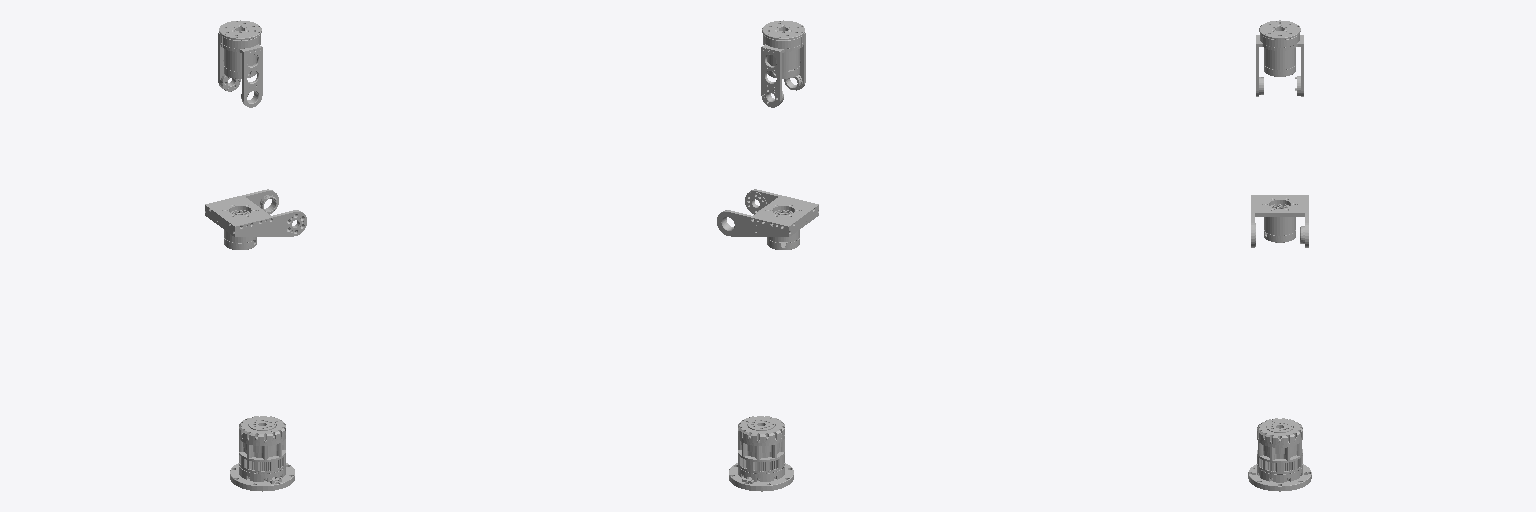
The robot description file, URDF, robot "tz_arm_V41-1335":
<?xml version="1.0" encoding="utf-8"?>
<robot name="tz_arm_V41-1335" path="/home/turingzero/vamp/depends/cricket/resources/tz4/tz_arm_V41-1335.urdf">
	<link name="base_link">
		<inertial>
			<origin xyz="2.99398138860439E-07 -3.82952103975888E-05 0.0507502318394864" rpy="0 0 0"></origin>
			<mass value="1.40205015450571"></mass>
			<inertia ixx="0.000788406537860612" ixy="-6.11950847235301E-10" ixz="3.92060292114215E-09" iyy="0.000789679952392793" iyz="-1.33449334947819E-06" izz="0.0011885193655481"></inertia>
		</inertial>
		<visual>
			<origin xyz="0 0 0" rpy="0 0 0"></origin>
			<geometry>
				<mesh filename="meshes/base_link.STL"></mesh>
			</geometry>
			<material name="">
				<color rgba="0.752941176470588 0.752941176470588 0.752941176470588 1"></color>
			</material>
		</visual>
		<collision>
			<geometry>
				<sphere radius="0.071214"></sphere>
			</geometry>
			<origin xyz="0.0001343362772682642 -0.0003413746512982846 0.038030326307778715" rpy="0 0 0"></origin>
		</collision>
		<collision>
			<geometry>
				<sphere radius="0.057428"></sphere>
			</geometry>
			<origin xyz="-0.0003276637227317358 6.862534870171544e-05 0.06080532630777871" rpy="0 0 0"></origin>
		</collision>
	</link>
	<link name="link_1">
		<inertial>
			<origin xyz="0.0306823927233202 -0.0063928559795804 0.040428098538066" rpy="0 0 0"></origin>
			<mass value="1.1270266760672"></mass>
			<inertia ixx="0.000631007772198894" ixy="-6.4009550144087E-07" ixz="-3.65451783193384E-05" iyy="0.000844227269112877" iyz="1.13338364399506E-06" izz="0.000654666345690303"></inertia>
		</inertial>
		<visual>
			<origin xyz="0 0 0" rpy="0 0 0"></origin>
			<geometry>
				<mesh filename="meshes/link_1.STL"></mesh>
			</geometry>
			<material name="">
				<color rgba="0.752941176470588 0.752941176470588 0.752941176470588 1"></color>
			</material>
		</visual>
		<collision>
			<geometry>
				<sphere radius="0.056729"></sphere>
			</geometry>
			<origin xyz="0.014247535344010555 0.010448569410885329 0.016331817878024804" rpy="0 0 0"></origin>
		</collision>
		<collision>
			<geometry>
				<sphere radius="0.065807"></sphere>
			</geometry>
			<origin xyz="0.03391553534401055 0.0009725694108853296 0.047977817878024805" rpy="0 0 0"></origin>
		</collision>
		<collision>
			<geometry>
				<sphere radius="0.055025"></sphere>
			</geometry>
			<origin xyz="0.017038535344010557 -0.015912430589114672 0.024795817878024803" rpy="0 0 0"></origin>
		</collision>
	</link>
	<link name="link_2">
		<inertial>
			<origin xyz="0.000149014115551779 0.0474685932588529 0.254649480511348" rpy="0 0 0"></origin>
			<mass value="1.4276525937128"></mass>
			<inertia ixx="0.00111522254991741" ixy="5.12194887643309E-07" ixz="2.45517975354855E-07" iyy="0.00125359398818602" iyz="-2.8919345256065E-06" izz="0.000758924202121227"></inertia>
		</inertial>
		<visual>
			<origin xyz="0 0 0" rpy="0 0 0"></origin>
			<geometry>
				<mesh filename="meshes/link_2.STL"></mesh>
			</geometry>
			<material name="">
				<color rgba="0.752941176470588 0.752941176470588 0.752941176470588 1"></color>
			</material>
		</visual>
		<collision>
			<geometry>
				<sphere radius="0.065249"></sphere>
			</geometry>
			<origin xyz="-0.0001624886144608847 0.052692105333109064 0.3273933273555716" rpy="0 0 0"></origin>
		</collision>
		<collision>
			<geometry>
				<sphere radius="0.047763"></sphere>
			</geometry>
			<origin xyz="0.0015815113855391152 0.05496710533310906 0.2521003273555716" rpy="0 0 0"></origin>
		</collision>
		<collision>
			<geometry>
				<sphere radius="0.041567"></sphere>
			</geometry>
			<origin xyz="-0.0009514886144608847 0.09612310533310907 0.011732327355571559" rpy="0 0 0"></origin>
		</collision>
		<collision>
			<geometry>
				<sphere radius="0.043162"></sphere>
			</geometry>
			<origin xyz="0.0012155113855391152 0.07411610533310907 0.06114732735557159" rpy="0 0 0"></origin>
		</collision>
		<collision>
			<geometry>
				<sphere radius="0.053308"></sphere>
			</geometry>
			<origin xyz="0.0010325113855391152 0.015702105333109062 0.02252232735557158" rpy="0 0 0"></origin>
		</collision>
		<collision>
			<geometry>
				<sphere radius="0.039259"></sphere>
			</geometry>
			<origin xyz="-0.0006524886144608846 0.04768710533310906 0.08174732735557158" rpy="0 0 0"></origin>
		</collision>
		<collision>
			<geometry>
				<sphere radius="0.038646"></sphere>
			</geometry>
			<origin xyz="0.0008455113855391154 0.05273210533310906 0.12526832735557158" rpy="0 0 0"></origin>
		</collision>
		<collision>
			<geometry>
				<sphere radius="0.040647"></sphere>
			</geometry>
			<origin xyz="-0.0003974886144608847 0.052479105333109066 0.1839773273555716" rpy="0 0 0"></origin>
		</collision>
	</link>
	<link name="link_3">
		<inertial>
			<origin xyz="-0.0691168244158789 0.0509293521452438 0.00103696333190795" rpy="0 0 0"></origin>
			<mass value="0.613793559187915"></mass>
			<inertia ixx="0.000222589070312874" ixy="6.12880481813559E-07" ixz="2.21450829496262E-05" iyy="0.00039143777544897" iyz="-3.89682417581845E-07" izz="0.000496902209263745"></inertia>
		</inertial>
		<visual>
			<origin xyz="0 0 0" rpy="0 0 0"></origin>
			<geometry>
				<mesh filename="meshes/link_3.STL"></mesh>
			</geometry>
			<material name="">
				<color rgba="0.752941176470588 0.752941176470588 0.752941176470588 1"></color>
			</material>
		</visual>
		<collision>
			<geometry>
				<sphere radius="0.031608"></sphere>
			</geometry>
			<origin xyz="-0.004018611916715278 0.0045451456166521464 -0.002800004638765477" rpy="0 0 0"></origin>
		</collision>
		<collision>
			<geometry>
				<sphere radius="0.029177"></sphere>
			</geometry>
			<origin xyz="-0.002421611916715277 0.09533814561665215 0.0004239953612345231" rpy="0 0 0"></origin>
		</collision>
		<collision>
			<geometry>
				<sphere radius="0.052164"></sphere>
			</geometry>
			<origin xyz="-0.08429161191671528 0.04710814561665214 -0.0038470046387654774" rpy="0 0 0"></origin>
		</collision>
		<collision>
			<geometry>
				<sphere radius="0.030401"></sphere>
			</geometry>
			<origin xyz="-0.09197561191671527 0.016789145616652137 0.009031995361234522" rpy="0 0 0"></origin>
		</collision>
		<collision>
			<geometry>
				<sphere radius="0.042888"></sphere>
			</geometry>
			<origin xyz="-0.05068761191671528 0.01284614561665215 0.005860995361234522" rpy="0 0 0"></origin>
		</collision>
		<collision>
			<geometry>
				<sphere radius="0.033944"></sphere>
			</geometry>
			<origin xyz="-0.09440461191671529 0.08074414561665214 0.010081995361234521" rpy="0 0 0"></origin>
		</collision>
		<collision>
			<geometry>
				<sphere radius="0.035088"></sphere>
			</geometry>
			<origin xyz="-0.061837611916715274 0.07910914561665214 0.0058629953612345225" rpy="0 0 0"></origin>
		</collision>
		<collision>
			<geometry>
				<sphere radius="0.026588"></sphere>
			</geometry>
			<origin xyz="-0.03082461191671528 0.09668114561665214 0.0019869953612345233" rpy="0 0 0"></origin>
		</collision>
	</link>
	<link name="link_4">
		<inertial>
			<origin xyz="0.000214950080421494 0.00203988696364857 0.124894137499477" rpy="0 0 0"></origin>
			<mass value="0.89374559689044"></mass>
			<inertia ixx="0.000409362102502985" ixy="2.28148247495762E-07" ixz="1.67841168818064E-07" iyy="0.000446600055148996" iyz="2.78684535533147E-07" izz="0.000365921464231545"></inertia>
		</inertial>
		<visual>
			<origin xyz="0 0 0" rpy="0 0 0"></origin>
			<geometry>
				<mesh filename="meshes/link_4.STL"></mesh>
			</geometry>
			<material name="">
				<color rgba="0.752941176470588 0.752941176470588 0.752941176470588 1"></color>
			</material>
		</visual>
		<collision>
			<geometry>
				<sphere radius="0.047631"></sphere>
			</geometry>
			<origin xyz="-0.00020908965413535616 -0.0013485473672471555 0.22629061455600813" rpy="0 0 0"></origin>
		</collision>
		<collision>
			<geometry>
				<sphere radius="0.036329"></sphere>
			</geometry>
			<origin xyz="0.0012879103458646437 -0.00030154736724715553 0.05676261455600812" rpy="0 0 0"></origin>
		</collision>
		<collision>
			<geometry>
				<sphere radius="0.034855"></sphere>
			</geometry>
			<origin xyz="-3.0089654135356168e-05 0.012537452632752844 0.20320461455600813" rpy="0 0 0"></origin>
		</collision>
		<collision>
			<geometry>
				<sphere radius="0.044445"></sphere>
			</geometry>
			<origin xyz="-7.708965413535617e-05 0.00020045263275284453 0.021969614556008113" rpy="0 0 0"></origin>
		</collision>
		<collision>
			<geometry>
				<sphere radius="0.03399"></sphere>
			</geometry>
			<origin xyz="-0.00016808965413535616 -0.00012354736724715554 0.10224761455600812" rpy="0 0 0"></origin>
		</collision>
		<collision>
			<geometry>
				<sphere radius="0.037673"></sphere>
			</geometry>
			<origin xyz="-0.0007690896541353562 -0.011377547367247156 0.20837761455600812" rpy="0 0 0"></origin>
		</collision>
		<collision>
			<geometry>
				<sphere radius="0.032315"></sphere>
			</geometry>
			<origin xyz="0.0005529103458646438 -0.0004955473672471555 0.1725966145560081" rpy="0 0 0"></origin>
		</collision>
		<collision>
			<geometry>
				<sphere radius="0.032292"></sphere>
			</geometry>
			<origin xyz="0.0013279103458646439 2.9452632752844494e-05 0.14269061455600812" rpy="0 0 0"></origin>
		</collision>
	</link>
	<link name="link_5">
		<inertial>
			<origin xyz="6.08960040078682E-05 -0.0416947400047801 0.055944066123006" rpy="0 0 0"></origin>
			<mass value="0.478406234272867"></mass>
			<inertia ixx="0.00022586576888966" ixy="-2.77437839244652E-07" ixz="2.10840497569652E-07" iyy="0.000235754335283292" iyz="-1.0228925615935E-06" izz="0.000175531606916588"></inertia>
		</inertial>
		<visual>
			<origin xyz="0 0 0" rpy="0 0 0"></origin>
			<geometry>
				<mesh filename="meshes/link_5.STL"></mesh>
			</geometry>
			<material name="">
				<color rgba="0.752941176470588 0.752941176470588 0.752941176470588 1"></color>
			</material>
		</visual>
		<collision>
			<geometry>
				<sphere radius="0.052649"></sphere>
			</geometry>
			<origin xyz="-0.0006182409143755459 -0.04716045058189382 0.06123501352120678" rpy="0 0 0"></origin>
		</collision>
		<collision>
			<geometry>
				<sphere radius="0.035106"></sphere>
			</geometry>
			<origin xyz="-0.00023824091437554595 -0.07209045058189381 0.03055301352120678" rpy="0 0 0"></origin>
		</collision>
		<collision>
			<geometry>
				<sphere radius="0.027662"></sphere>
			</geometry>
			<origin xyz="0.00037875908562445403 -0.07926145058189382 0.00019301352120677795" rpy="0 0 0"></origin>
		</collision>
		<collision>
			<geometry>
				<sphere radius="0.040782"></sphere>
			</geometry>
			<origin xyz="0.000649759085624454 -0.021443450581893814 0.04336601352120678" rpy="0 0 0"></origin>
		</collision>
		<collision>
			<geometry>
				<sphere radius="0.031644"></sphere>
			</geometry>
			<origin xyz="-0.000553240914375546 -0.007978450581893816 0.004050013521206777" rpy="0 0 0"></origin>
		</collision>
		<collision>
			<geometry>
				<sphere radius="0.046823"></sphere>
			</geometry>
			<origin xyz="0.001377759085624454 -0.030833450581893816 0.06442001352120678" rpy="0 0 0"></origin>
		</collision>
	</link>
	<link name="link_6">
		<inertial>
			<origin xyz="-1.85483558697019E-06 -7.60638481150593E-06 -0.0121372216546072" rpy="0 0 0"></origin>
			<mass value="0.270130898341682"></mass>
			<inertia ixx="8.14903059956733E-05" ixy="3.18819522590701E-10" ixz="2.38922855368536E-10" iyy="8.11091947634158E-05" iyz="2.38863302772195E-10" izz="0.000156392942183986"></inertia>
		</inertial>
		<visual>
			<origin xyz="0 0 0" rpy="0 0 0"></origin>
			<geometry>
				<mesh filename="meshes/link_6.STL"></mesh>
			</geometry>
			<material name="">
				<color rgba="0.752941176470588 0.752941176470588 0.752941176470588 1"></color>
			</material>
		</visual>
		<collision>
			<geometry>
				<sphere radius="0.040096"></sphere>
			</geometry>
			<origin xyz="-0.007727031025561962 -0.0003414679452219104 -0.012323532775148702" rpy="0 0 0"></origin>
		</collision>
		<collision>
			<geometry>
				<sphere radius="0.040306"></sphere>
			</geometry>
			<origin xyz="0.006302968974438038 0.00020553205477808964 -0.012759532775148701" rpy="0 0 0"></origin>
		</collision>
	</link>
	<joint name="joint_1" type="revolute">
		<origin xyz="0 0 0.1065" rpy="0 0 0"></origin>
		<parent link="base_link"></parent>
		<child link="link_1"></child>
		<axis xyz="0 0 1"></axis>
		<limit lower="-3.14" upper="3.14" effort="100" velocity="10"></limit>
		<dynamics damping="0.1" friction="0.1"></dynamics>
	</joint>
	<joint name="joint_2" type="revolute">
		<origin xyz="0.035 -0.05275 0.047" rpy="0 0 0"></origin>
		<parent link="link_1"></parent>
		<child link="link_2"></child>
		<axis xyz="0 1 0"></axis>
		<limit lower="-1.57" upper="1.57" effort="100" velocity="10"></limit>
		<dynamics damping="0.1" friction="0.1"></dynamics>
	</joint>
	<joint name="joint_3" type="revolute">
		<origin xyz="0 0.00175 0.3286" rpy="0 0 0"></origin>
		<parent link="link_2"></parent>
		<child link="link_3"></child>
		<axis xyz="0 1 0"></axis>
		<limit lower="0" upper="3.142" effort="100" velocity="10"></limit>
		<dynamics damping="0.1" friction="0.1"></dynamics>
	</joint>
	<joint name="joint_4" type="revolute">
		<origin xyz="-0.078 0.051 0.0225" rpy="0 0 0"></origin>
		<parent link="link_3"></parent>
		<child link="link_4"></child>
		<axis xyz="0 0 1"></axis>
		<limit lower="-3.14" upper="3.14" effort="100" velocity="10"></limit>
		<dynamics damping="0.1" friction="0.1"></dynamics>
	</joint>
	<joint name="join_5" type="revolute">
		<origin xyz="0 0.0425 0.2265" rpy="0 0 0"></origin>
		<parent link="link_4"></parent>
		<child link="link_5"></child>
		<axis xyz="0 1 0"></axis>
		<limit lower="-1.83" upper="1.83" effort="100" velocity="10"></limit>
		<dynamics damping="0.1" friction="0.1"></dynamics>
	</joint>
	<joint name="joint_6" type="revolute">
		<origin xyz="0 -0.0425 0.109" rpy="0 0 0"></origin>
		<parent link="link_5"></parent>
		<child link="link_6"></child>
		<axis xyz="0 0 1"></axis>
		<limit lower="-3.142" upper="3.142" effort="100" velocity="10"></limit>
		<dynamics damping="0.1" friction="0.1"></dynamics>
	</joint>
</robot>

--- Facts derived from the render (not from the file) ---
The picture shows the robot from 3 angles, left to right: view 1: azimuth 30°, elevation 25°; view 2: azimuth 150°, elevation 25°; view 3: azimuth 270°, elevation 25°; orthographic projection.
Model tz_arm_V41-1335 with 7 links and 6 joints (6 revolute), rooted at base_link, posed all joints at 0.
Links seen in each view (by area): view 1: base_link, link_3, link_5, link_6; view 2: base_link, link_3, link_5, link_6; view 3: base_link, link_3, link_5, link_6.
Link boxes in pixels (x1,y1,x2,y2): base_link: (230, 416, 294, 491); link_3: (205, 189, 306, 249); link_5: (218, 33, 262, 107); link_6: (219, 20, 261, 48); base_link: (729, 416, 793, 491); link_3: (717, 189, 818, 249); link_5: (761, 33, 805, 107); link_6: (762, 20, 804, 48); base_link: (1248, 418, 1311, 491); link_3: (1251, 195, 1308, 247); link_5: (1256, 35, 1303, 96); link_6: (1259, 20, 1300, 47).
Size in the robot's own frame: 0.1404 by 0.1099 by 0.8401 metres.
4 mesh visuals loaded from 7 distinct referenced files (4 binary STL); not drawn: 3 (reference not matched to a file when rendering).
